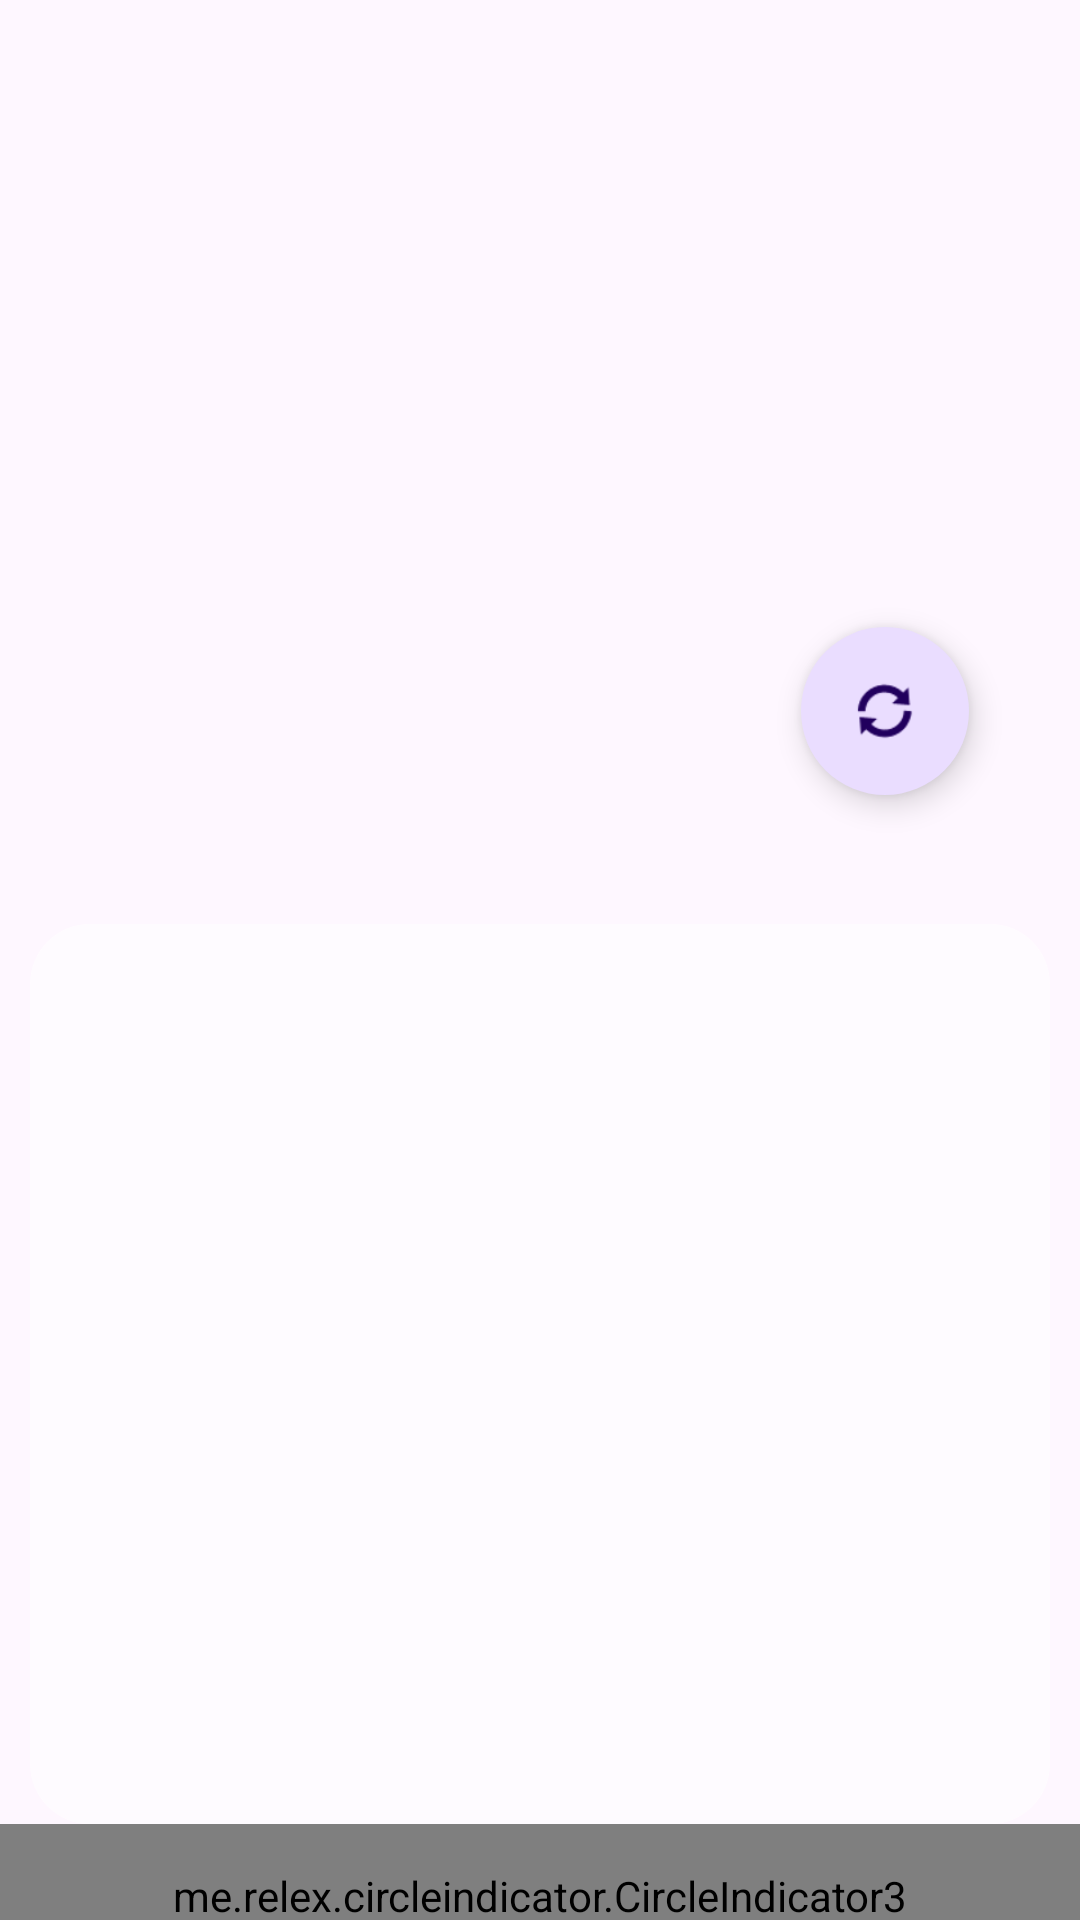

Named icons in this screenshot (1080×1920) and their bounding boxes, region(x1, y1, x2, y2):
popup sync: region(801, 627, 969, 795)
